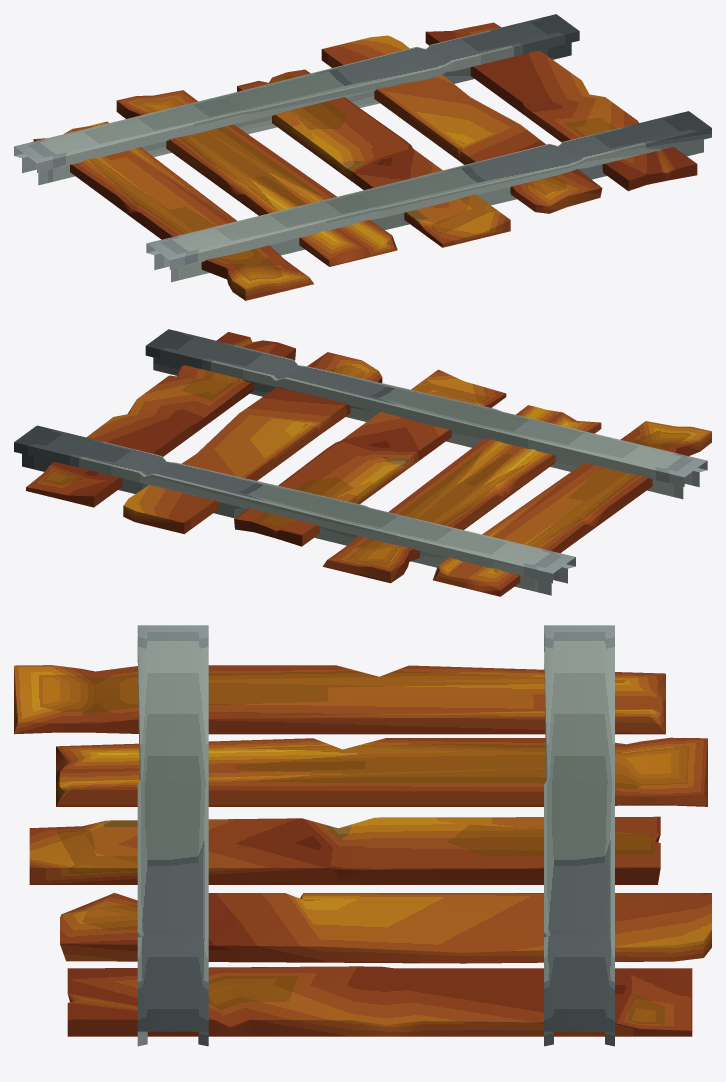
File: SM_rail.fbx
3 renders of one model, top to bottom at view 1: azimuth 30°, elevation 25°; view 2: azimuth 150°, elevation 25°; view 3: azimuth 270°, elevation 25°, orthographic. The views are drawn at different scales.
Visible parts, largest first — view 1: SM_rail; view 2: SM_rail; view 3: SM_rail.
Part boxes in pixels (box(x1,y1,x2,y2)): SM_rail: box(14, 14, 711, 300); SM_rail: box(14, 329, 711, 596); SM_rail: box(14, 625, 711, 1046).
Bounding box in the file's own units: 263 × 12.89 × 191.
Materials: 1 (1 with a texture image).
